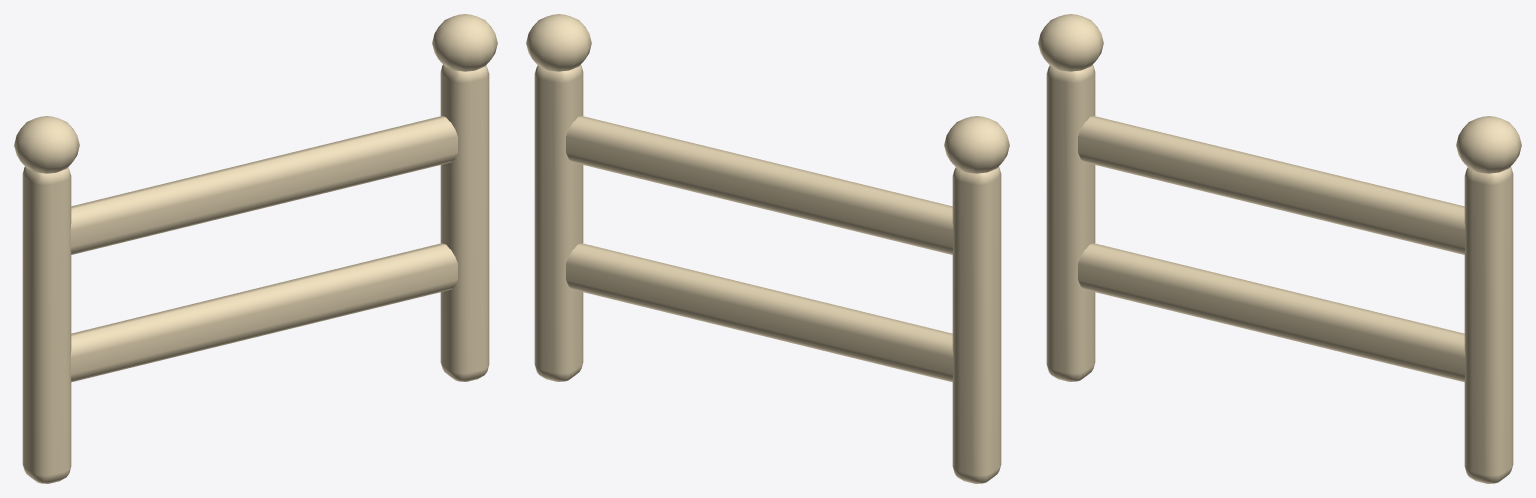
The model's file is fence.glb.
3 views of the same model, side by side, from view 1: azimuth 30°, elevation 25°; view 2: azimuth 150°, elevation 25°; view 3: azimuth 330°, elevation 25° (orthographic).
Parts seen in each view (by area): view 1: fence_World_Mesh; view 2: fence_World_Mesh; view 3: fence_World_Mesh.
Part boxes in pixels (box(x1,y1,x2,y2)): fence_World_Mesh: box(14, 14, 497, 483); fence_World_Mesh: box(526, 14, 1009, 483); fence_World_Mesh: box(1038, 14, 1521, 483).
Bounding box in the file's own units: 1.25 × 0.905 × 0.15.
